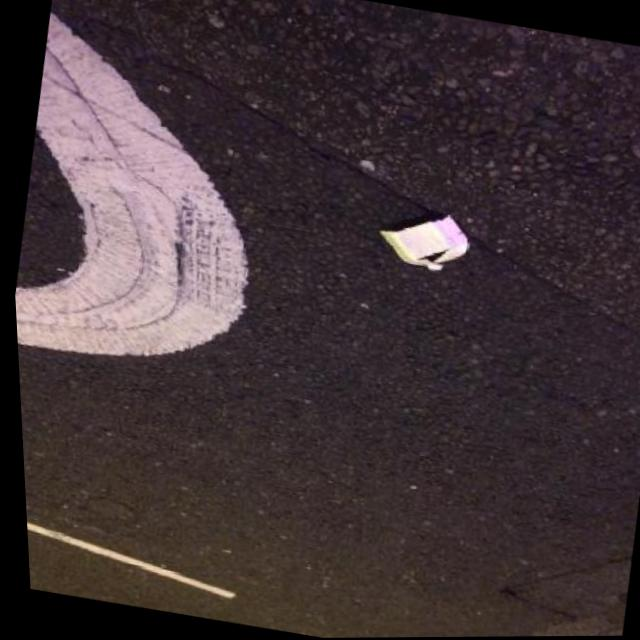foam: (371, 203, 476, 277)
